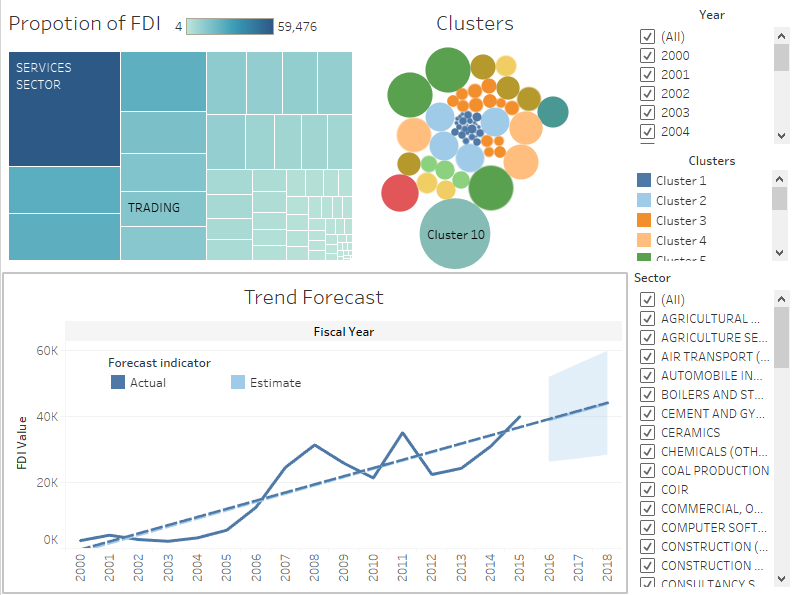

Layout of this report page (visuals, bound fields, positions):
{"tool":"tableau","page":{"name":"Dashboard 1","canvas":[800,600],"ordinal":0},"visuals":[{"type":"worksheet","title":"Clusters","mark":"Circle","box":[359,2,265,273]},{"type":"worksheet","param":"vert","box":[629,4,164,589]},{"type":"worksheet","title":"Propotion of FDI","mark":"Automatic","param":"[federated.1skucmb0c9w6hb1dbcbba0i32f8y].[yr:Calculation_307933692484055040:ok]","box":[629,4,164,146]},{"type":"worksheet","title":"Clusters","mark":"Circle","param":"[federated.1skucmb0c9w6hb1dbcbba0i32f8y].[none:AdhocCluster:1:ok]","box":[629,150,164,117]},{"type":"worksheet","title":"Trend Forecast","mark":"Automatic","rows":["Pivot Field Values"],"cols":["Calculation_307933692484055040"],"param":"[federated.1skucmb0c9w6hb1dbcbba0i32f8y].[none:Sector:nk]","box":[629,267,164,326]},{"type":"worksheet","param":"vert","box":[1,276,624,318]},{"type":"worksheet","title":"Trend Forecast","mark":"Automatic","rows":["Pivot Field Values"],"cols":["Calculation_307933692484055040"],"box":[1,276,624,318]},{"type":"worksheet","title":"Trend Forecast","mark":"Automatic","rows":["Pivot Field Values"],"cols":["Calculation_307933692484055040"],"param":"[federated.1skucmb0c9w6hb1dbcbba0i32f8y].[none:Forecast Indicator:nk]","box":[107,356,255,39]}]}

Visuals, with their boxes in screenshot pixels (x1, y1, x2, y2), scaled from the page's 800x600 canvas onto the 796x595 screenshot:
"Clusters" worksheet (Circle marks): 357, 2, 621, 273
worksheet: 626, 4, 789, 588
"Propotion of FDI" worksheet: 626, 4, 789, 149
"Clusters" worksheet (Circle marks): 626, 149, 789, 265
"Trend Forecast" worksheet: 626, 265, 789, 588
worksheet: 1, 274, 622, 589
"Trend Forecast" worksheet: 1, 274, 622, 589
"Trend Forecast" worksheet: 106, 353, 360, 392
